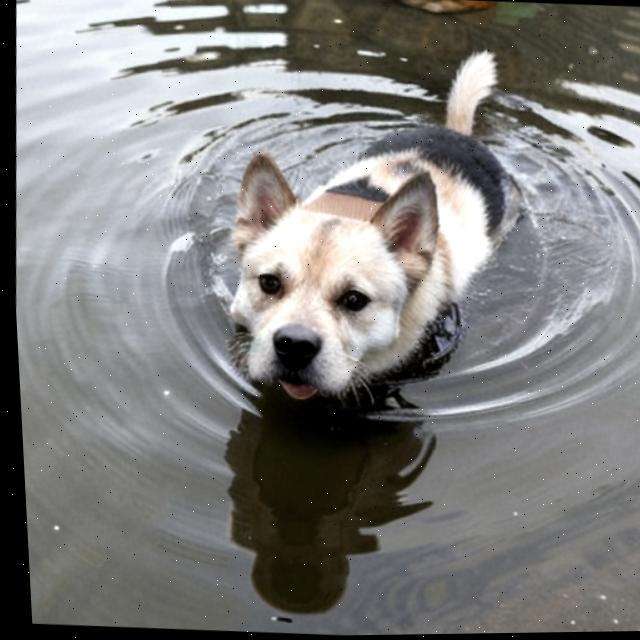dog: (176, 29, 546, 433)
